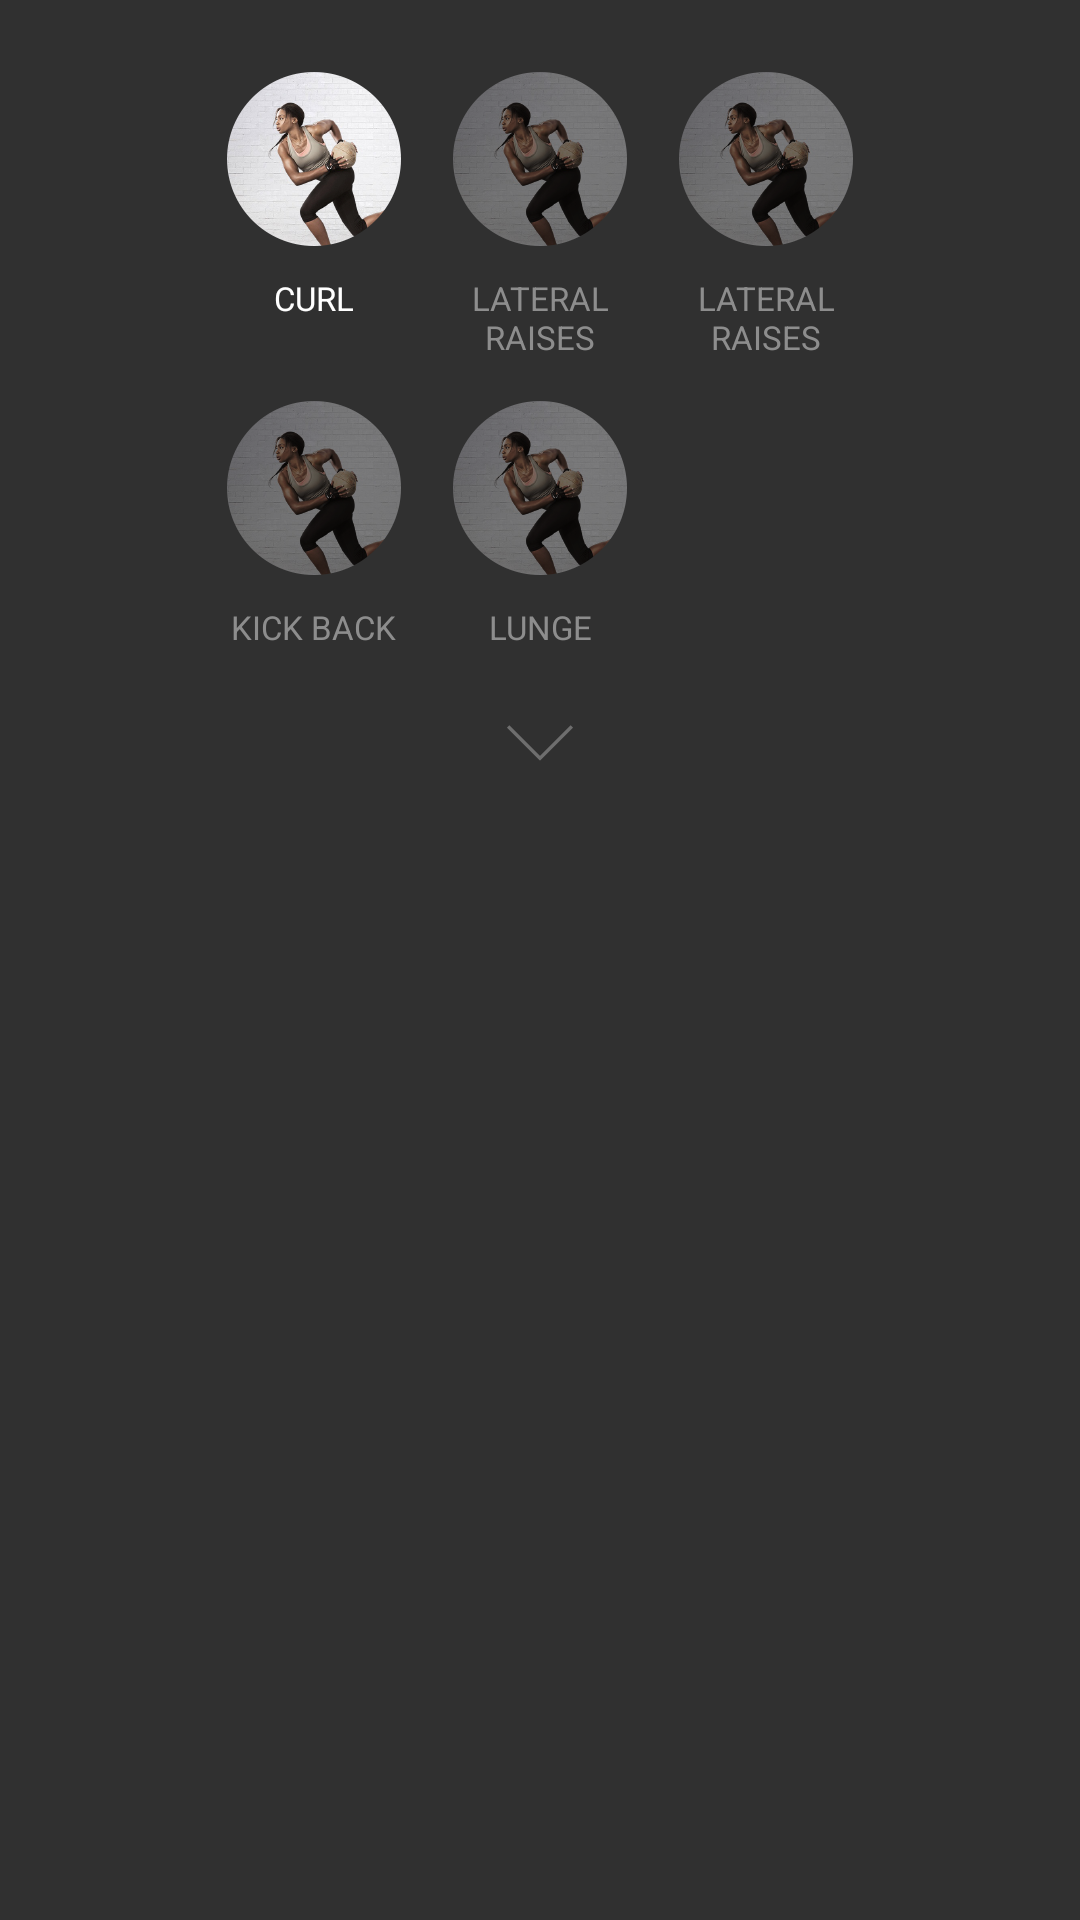

Screen size 1080x1920. Icon name, then its center in pixels as [x,y]:
arrow: [540,742]
